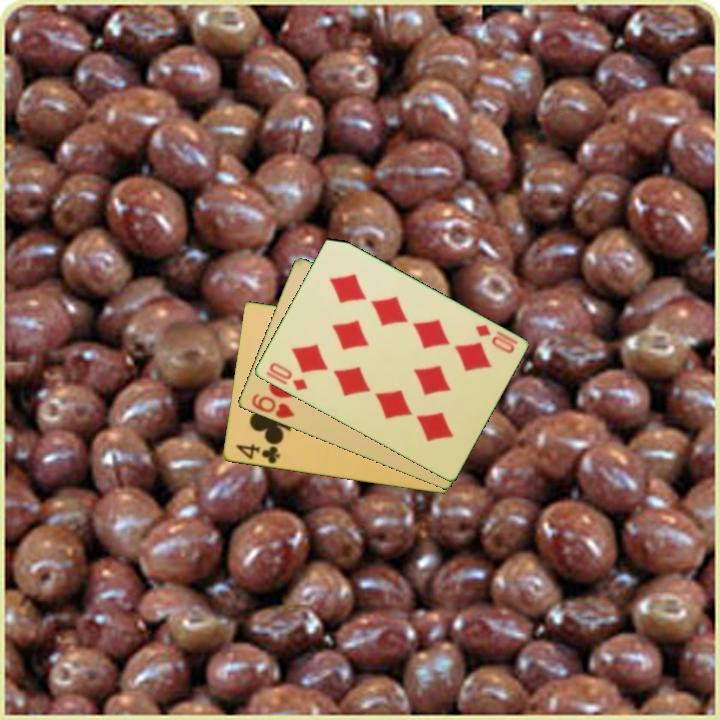10d: (262, 359, 310, 394), (471, 321, 517, 356)
4c: (232, 441, 283, 467)
6h: (248, 390, 297, 422)
